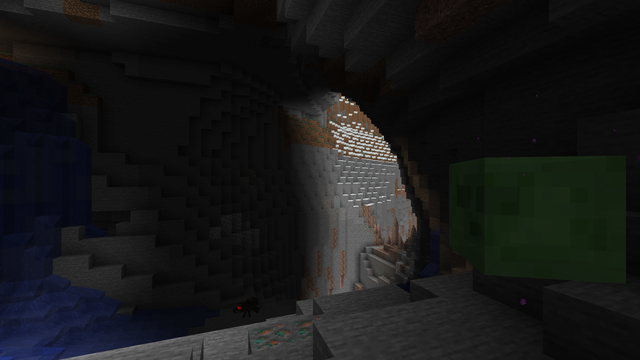araignees: (236, 295, 255, 317)
slimes: (437, 149, 619, 288)
